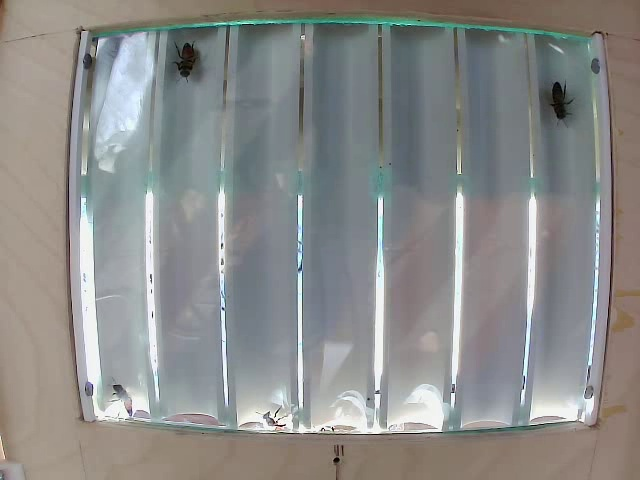bee: (171, 38, 215, 88), (546, 74, 584, 128)
